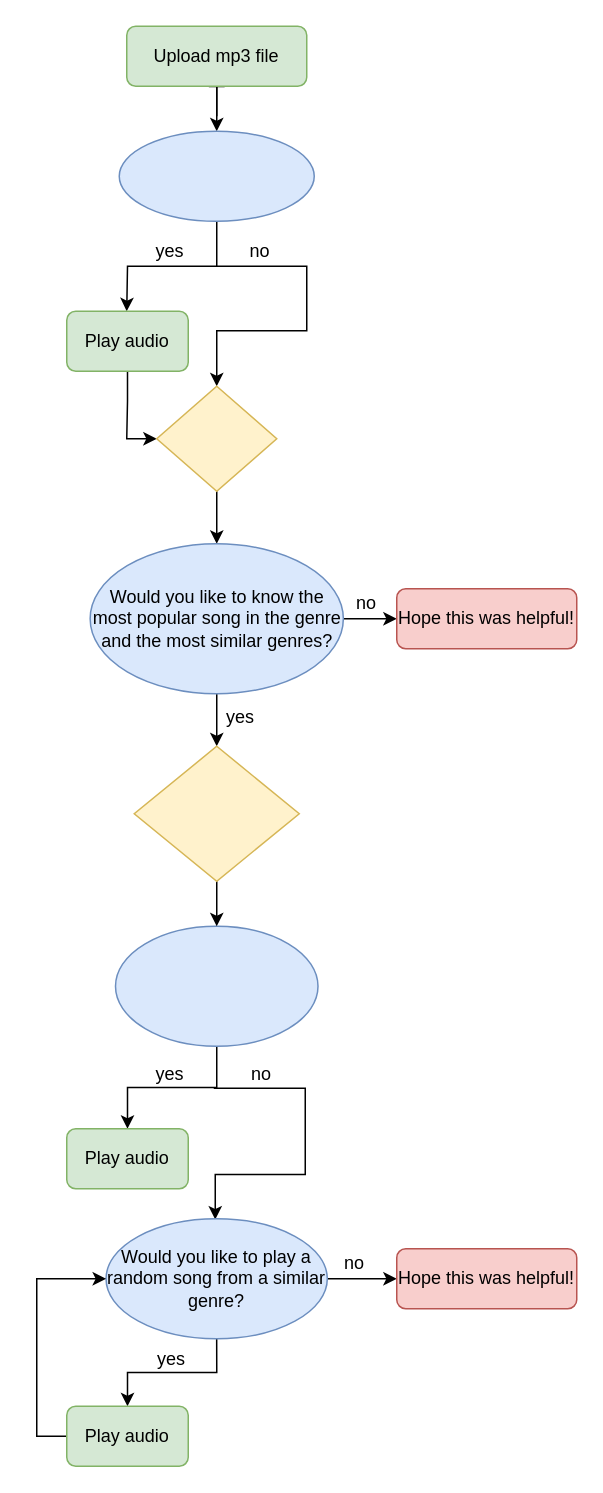
Image size: 603x1493. Some labels were removed from this diagram. The shapes that lost their labels are listed below. From the top down, each one's centre as x and y in pixels, then its label:
point (216, 175): Would you like to play the audio?
point (216, 438): Predict genre
point (216, 813): Return most popular song and similar genres
point (216, 985): Would you like to play the most popular song in the genre?
